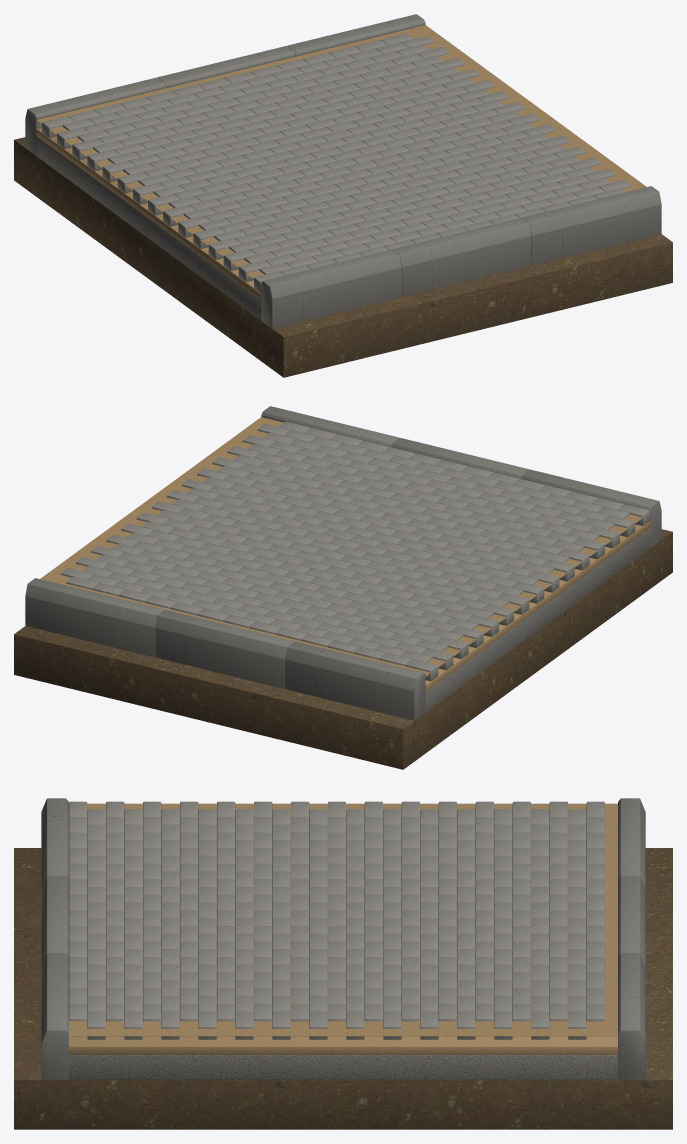
Rendered from KIT-PAV-02_lod1.glb.
3 views of the same model, one above another, from view 1: azimuth 30°, elevation 25°; view 2: azimuth 150°, elevation 25°; view 3: azimuth 270°, elevation 25° (orthographic). The views are drawn at different scales.
Parts seen in each view (by area): view 1: KIT-PAV-02_subleito, KIT-PAV-02_mfB0, KIT-PAV-02_mfB2, KIT-PAV-02_mfB1, KIT-PAV-02_rejunte, KIT-PAV-02_subbase, KIT-PAV-02_mfA0, KIT-PAV-02_areia, KIT-PAV-02_mfA2, KIT-PAV-02_mfA1; view 2: KIT-PAV-02_subleito, KIT-PAV-02_mfA0, KIT-PAV-02_mfA2, KIT-PAV-02_mfA1, KIT-PAV-02_rejunte, KIT-PAV-02_subbase, KIT-PAV-02_areia, KIT-PAV-02_mfB0, KIT-PAV-02_mfB2, KIT-PAV-02_mfB1; view 3: KIT-PAV-02_subleito, KIT-PAV-02_rejunte, KIT-PAV-02_subbase, KIT-PAV-02_areia, KIT-PAV-02_mfA2, KIT-PAV-02_mfB2, KIT-PAV-02_mfA1, KIT-PAV-02_mfB1, KIT-PAV-02_mfA0, KIT-PAV-02_mfB0.
Boxes of the visible parts, x1,y1,x2,y2 form: KIT-PAV-02_subleito: (14, 137, 672, 377); KIT-PAV-02_mfB0: (261, 249, 401, 328); KIT-PAV-02_mfB2: (522, 186, 661, 265); KIT-PAV-02_mfB1: (392, 218, 531, 296); KIT-PAV-02_rejunte: (36, 25, 646, 284); KIT-PAV-02_subbase: (36, 136, 261, 320); KIT-PAV-02_mfA0: (25, 77, 165, 155); KIT-PAV-02_areia: (36, 128, 261, 299); KIT-PAV-02_mfA2: (287, 14, 425, 56); KIT-PAV-02_mfA1: (157, 46, 295, 88); KIT-PAV-02_subleito: (14, 529, 672, 769); KIT-PAV-02_mfA0: (285, 641, 425, 720); KIT-PAV-02_mfA2: (25, 578, 164, 657); KIT-PAV-02_mfA1: (155, 610, 294, 688); KIT-PAV-02_rejunte: (40, 417, 643, 676); KIT-PAV-02_subbase: (425, 528, 650, 712); KIT-PAV-02_areia: (425, 521, 650, 691); KIT-PAV-02_mfB0: (521, 469, 661, 547); KIT-PAV-02_mfB2: (261, 406, 399, 446); KIT-PAV-02_mfB1: (391, 438, 529, 478); KIT-PAV-02_subleito: (14, 848, 672, 1129); KIT-PAV-02_rejunte: (69, 803, 617, 1036); KIT-PAV-02_subbase: (69, 1055, 617, 1079); KIT-PAV-02_areia: (69, 1036, 617, 1054); KIT-PAV-02_mfA2: (618, 953, 645, 1079); KIT-PAV-02_mfB2: (41, 953, 68, 1079); KIT-PAV-02_mfA1: (618, 875, 645, 966); KIT-PAV-02_mfB1: (41, 875, 68, 966); KIT-PAV-02_mfA0: (618, 798, 645, 888); KIT-PAV-02_mfB0: (41, 798, 68, 888).
Size of the model in its own units: 3 by 0.6 by 3.6.
Materials: 5 (5 with a texture image).
